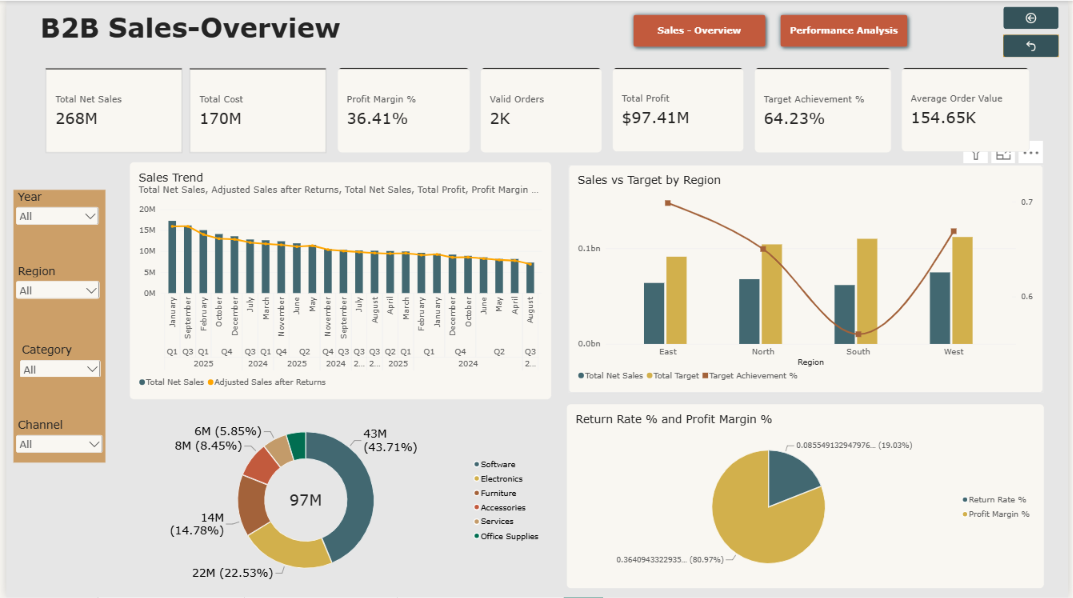

Layout of this report page (visuals, bound fields, positions):
{"tool":"powerbi","page":{"name":"Executive Overview","canvas":[1920,1080],"ordinal":0},"visuals":[{"type":"cardVisual","fields":{"Data":["SalesTransactionsTable.Total Cost"]},"box":[331.3,121.5,248,154],"z":0},{"type":"slicer","fields":{"Values":["CustomerMasterTable.Region"]},"box":[13.2,477.1,161.1,72.4],"z":0,"group":"g1"},{"type":"cardVisual","fields":{"Data":["SalesTransactionsTable.Profit Margin %"]},"box":[598.3,121.5,240,154],"z":1000},{"type":"slicer","fields":{"Values":["ProductMasterTable.Category"]},"box":[20.1,620,155.6,61.5],"z":1000,"group":"g1"},{"type":"textbox","box":[30,18,518,66],"z":2000},{"type":"slicer","fields":{"Values":["SalesTransactionsTable.Channel"]},"box":[13.2,755.5,166.5,81.4],"z":2000,"group":"g1"},{"type":"cardVisual","fields":{"Data":["SalesTransactionsTable.Valid Orders"]},"box":[857.3,121.5,220,154],"z":3000},{"type":"slicer","fields":{"Values":["calender_table.Year"]},"box":[13.2,342.8,159.3,72.4],"z":3000,"group":"g1"},{"type":"cardVisual","fields":{"Data":["SalesTransactionsTable.Total Profit"]},"box":[1096.3,121.5,238,152],"z":4000},{"type":"cardVisual","fields":{"Data":["CustomerMasterTable.Target Achievement %"]},"box":[1353.3,121.5,248,154],"z":5000},{"type":"lineClusteredColumnComboChart","title":"Sales Trend","fields":{"Category":["calender_table.Year","calender_table.Quarter","calender_table.MonthName"],"Y":["SalesTransactionsTable.Total Net Sales"],"Y2":["SalesTransactionsTable.Adjusted Sales after Returns"]},"box":[222.6,291.4,763.7,430.7],"z":6000},{"type":"lineClusteredColumnComboChart","title":"Sales vs Target by Region","fields":{"Y":["SalesTransactionsTable.Total Net Sales","SalesTransactionsTable.Total Target"],"Y2":["CustomerMasterTable.Target Achievement %"],"Category":["Region Dimension.Region"]},"box":[1017,296.8,859.6,412.6],"z":7000},{"type":"donutChart","fields":{"Category":["ProductMasterTable.Category"],"Y":["SalesTransactionsTable.Total Profit"]},"box":[222.6,727.1,765.5,352.9],"z":8000},{"type":"pieChart","fields":{"Y":["SalesTransactionsTable.Return Rate %","SalesTransactionsTable.Profit Margin %"]},"box":[1013.4,729.3,865,334.8],"z":9000},{"type":"cardVisual","fields":{"Data":["SalesTransactionsTable.Average Order Value"]},"box":[1620.3,121.5,232,152],"z":10000},{"type":"cardVisual","fields":{"Data":["SalesTransactionsTable.Total Net Sales"]},"box":[70.3,120.7,248,154],"z":11000},{"type":"actionButton","box":[1803.8,60.8,100,40],"z":12000},{"type":"actionButton","box":[1804,10,100,40],"z":13000},{"type":"actionButton","box":[1125.4,16.3,257,76],"z":15000,"group":"g2"},{"type":"actionButton","box":[1391.4,16.3,247.9,76],"z":16000,"group":"g2"},{"type":"group","id":"g1","title":"Group 1","box":[13.2,342.8,166.5,494.1],"z":17000},{"type":"group","id":"g2","title":"Group 2","box":[1125.4,16.3,513.9,76],"z":17001}]}

Visuals, with their boxes in screenshot pixels (x1, y1, x2, y2), scaled from the page's 1920x1080 canvas onto the 1073x598 screenshot:
cardVisual - SalesTransactionsTable.Total Cost: 185/67/324/153
slicer - CustomerMasterTable.Region: 7/264/97/304
cardVisual - SalesTransactionsTable.Profit Margin %: 334/67/468/153
slicer - ProductMasterTable.Category: 11/343/98/377
textbox: 17/10/306/47
slicer - SalesTransactionsTable.Channel: 7/418/100/463
cardVisual - SalesTransactionsTable.Valid Orders: 479/67/602/153
slicer - calender_table.Year: 7/190/96/230
cardVisual - SalesTransactionsTable.Total Profit: 613/67/746/151
cardVisual - CustomerMasterTable.Target Achievement %: 756/67/895/153
"Sales Trend" lineClusteredColumnComboChart: 124/161/551/400
"Sales vs Target by Region" lineClusteredColumnComboChart: 568/164/1049/393
donutChart - ProductMasterTable.Category x SalesTransactionsTable.Total Profit: 124/403/552/597
pieChart - SalesTransactionsTable.Return Rate % x SalesTransactionsTable.Profit Margin %: 566/404/1050/589
cardVisual - SalesTransactionsTable.Average Order Value: 906/67/1035/151
cardVisual - SalesTransactionsTable.Total Net Sales: 39/67/178/152
actionButton: 1008/34/1064/56
actionButton: 1008/6/1064/28
actionButton: 629/9/773/51
actionButton: 778/9/916/51
"Group 1" group: 7/190/100/463
"Group 2" group: 629/9/916/51
